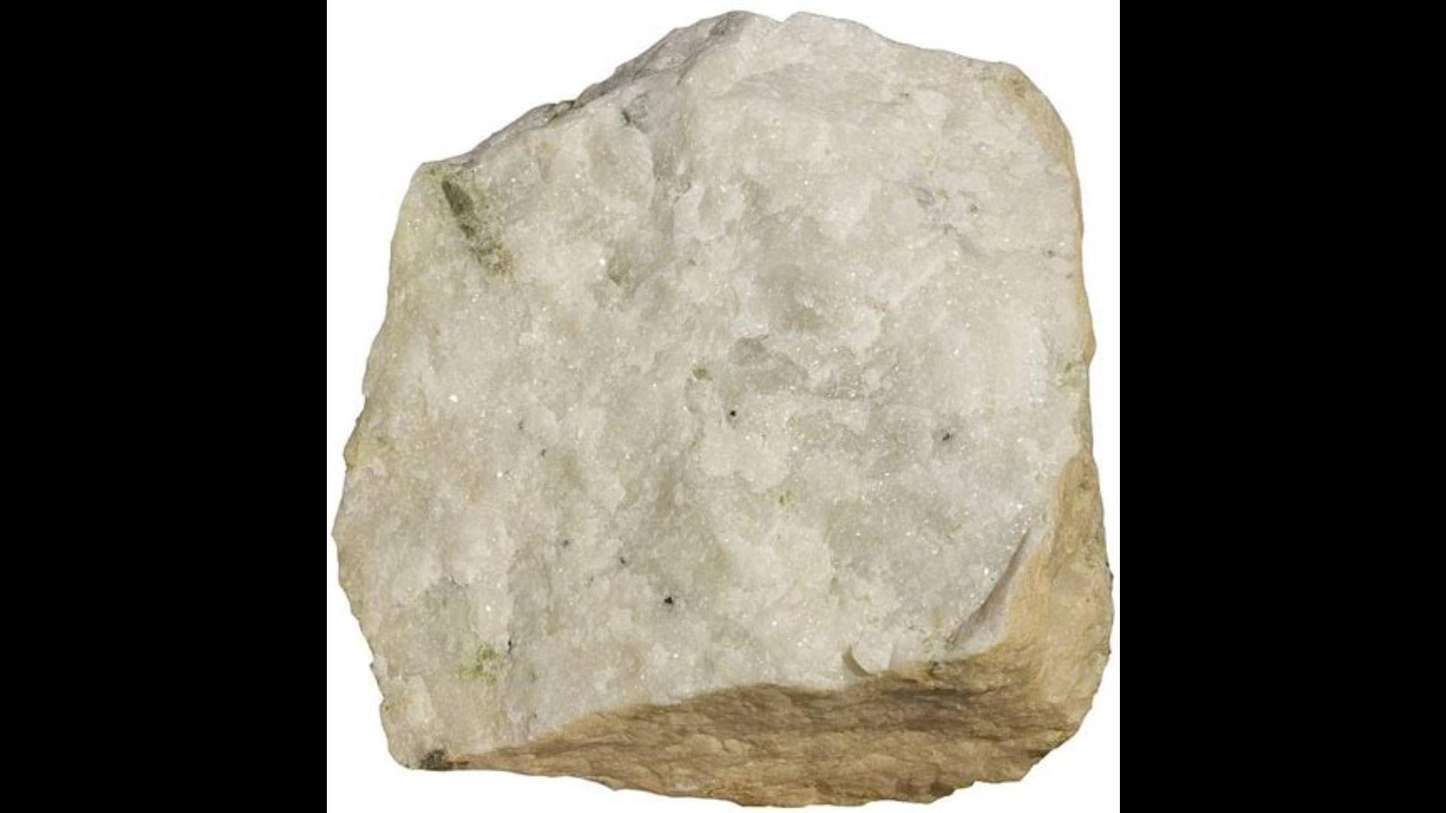rock: (333, 12, 1108, 801)
